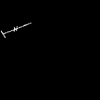treble_crochet: (1, 25, 24, 31)
